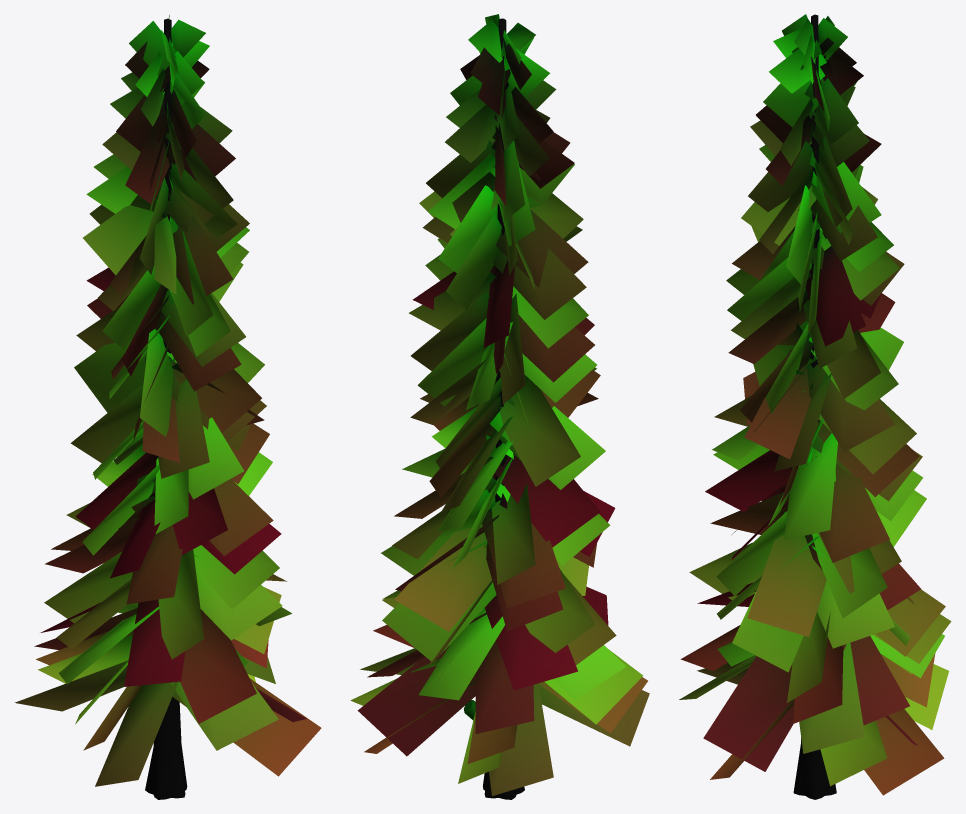
The model's file is M_Pine_2_9.fbx.
3 renders of one model, left to right at view 1: azimuth 30°, elevation 25°; view 2: azimuth 150°, elevation 25°; view 3: azimuth 270°, elevation 25°, orthographic.
Visible parts, largest first — view 1: Tree_9; view 2: Tree_9; view 3: Tree_9.
Part boxes in pixels (x1=…): Tree_9: x1=14, y1=14, x2=321, y2=799; Tree_9: x1=350, y1=14, x2=649, y2=799; Tree_9: x1=679, y1=14, x2=951, y2=799.
Bounding box in the file's own units: 947 × 3007 × 959.
